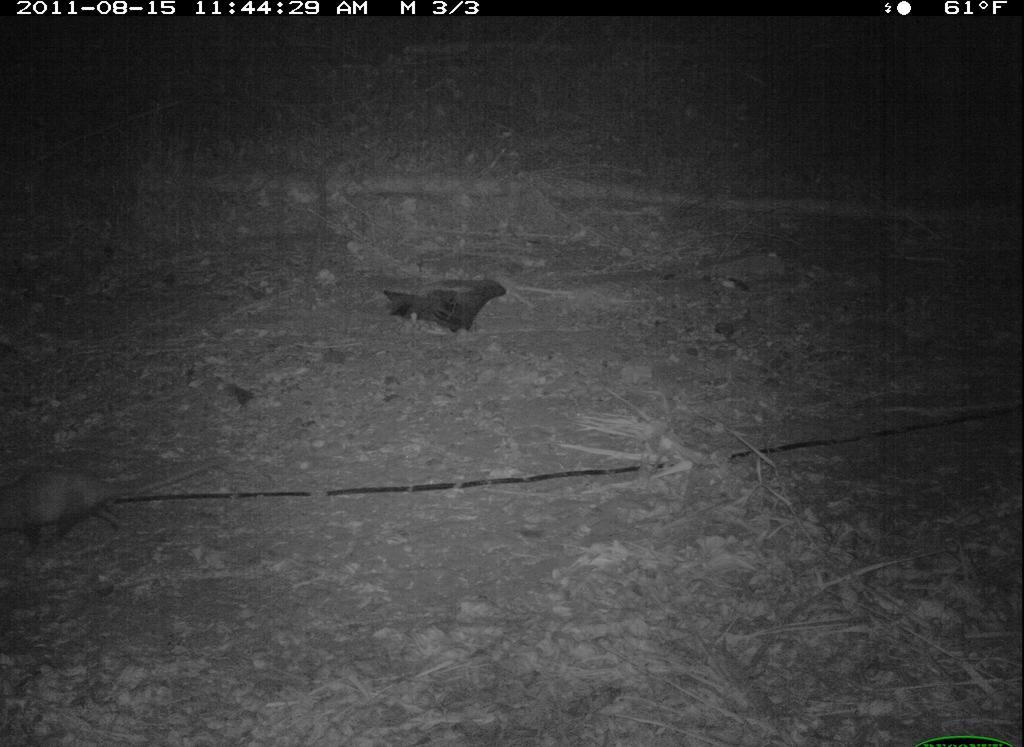opossum: (1, 447, 236, 562)
